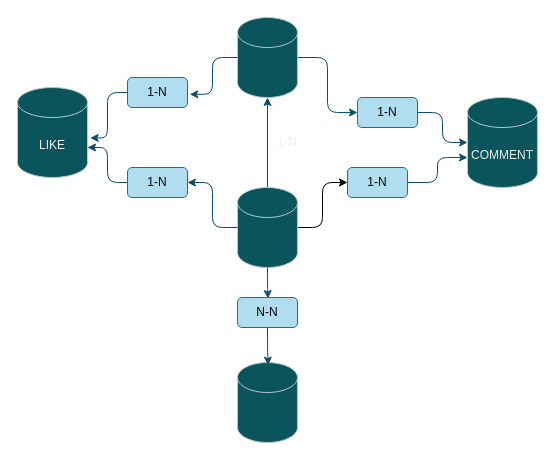
The diagram is 555 pixels wide and 460 high, and some of its shapes have lost their labels. The shapes that lost their labels are listed below. From the top down, each one's centre as x and y in pixels, then its label:
At pixel 267 57: "POST".
At pixel 267 227: "USER".
At pixel 267 402: "FOLLOW".
